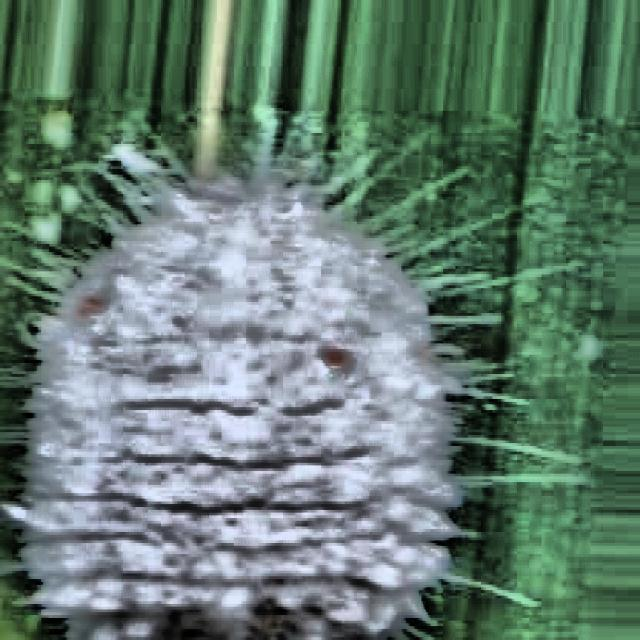Mealy-bug: (4, 125, 487, 640)
